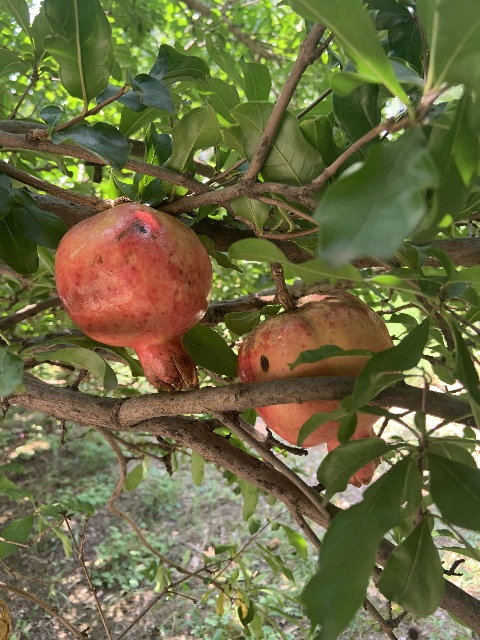ripe: (237, 289, 393, 487), (54, 202, 213, 392)
